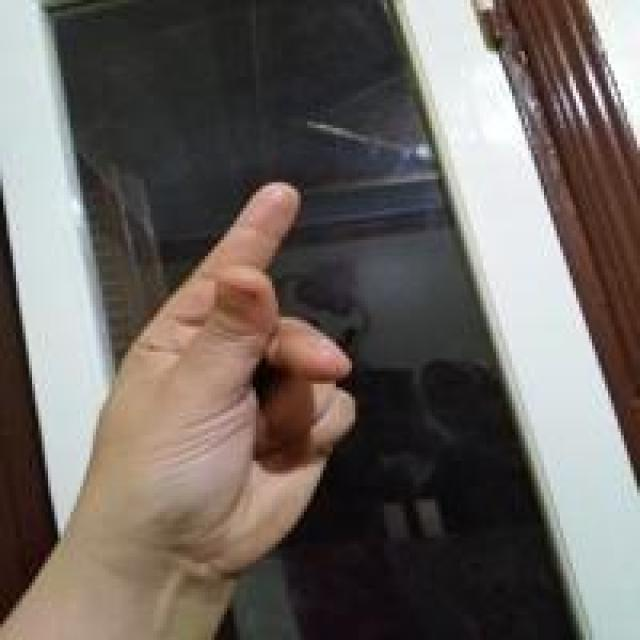K: (64, 168, 374, 581)
